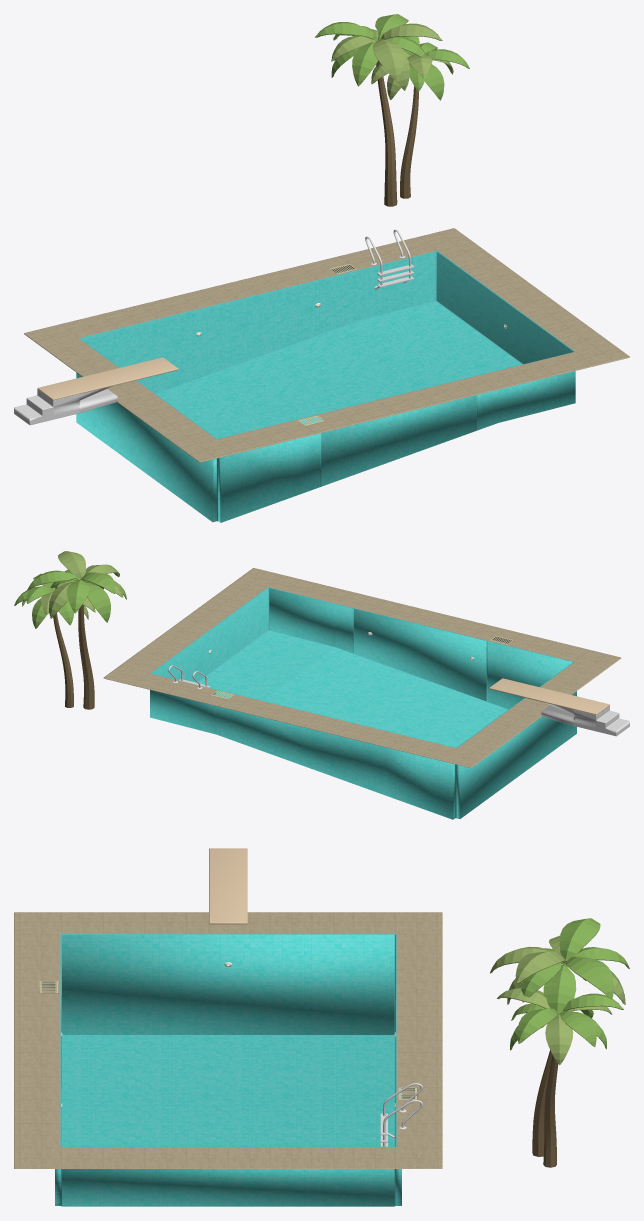
Rendered from Pool.glb.
The picture shows the model from 3 angles, top to bottom: view 1: azimuth 30°, elevation 25°; view 2: azimuth 150°, elevation 25°; view 3: azimuth 270°, elevation 25°; orthographic projection. The views are drawn at different scales.
Parts seen in each view (by area): view 1: Pool Main, Palm-tree, Trampolin, Palm-tree.001; view 2: Pool Main, Palm-tree, Trampolin, Palm-tree.001; view 3: Pool Main, Palm-tree, Palm-tree.001, Trampolin.
Boxes of the visible parts, box(x1,y1,x2,y2) form: Pool Main: box(24, 228, 629, 522); Palm-tree: box(314, 14, 442, 206); Trampolin: box(14, 357, 178, 425); Palm-tree.001: box(371, 36, 469, 198); Pool Main: box(103, 568, 621, 819); Palm-tree: box(27, 551, 126, 709); Trampolin: box(489, 678, 629, 736); Palm-tree.001: box(14, 573, 95, 707); Pool Main: box(14, 912, 442, 1206); Palm-tree: box(490, 918, 629, 1156); Palm-tree.001: box(497, 988, 623, 1167); Trampolin: box(209, 848, 247, 924).
Size of what is drawn, in the model's own units: 64.45 by 28.1 by 49.74.
Materials: 18 (3 with a texture image).
